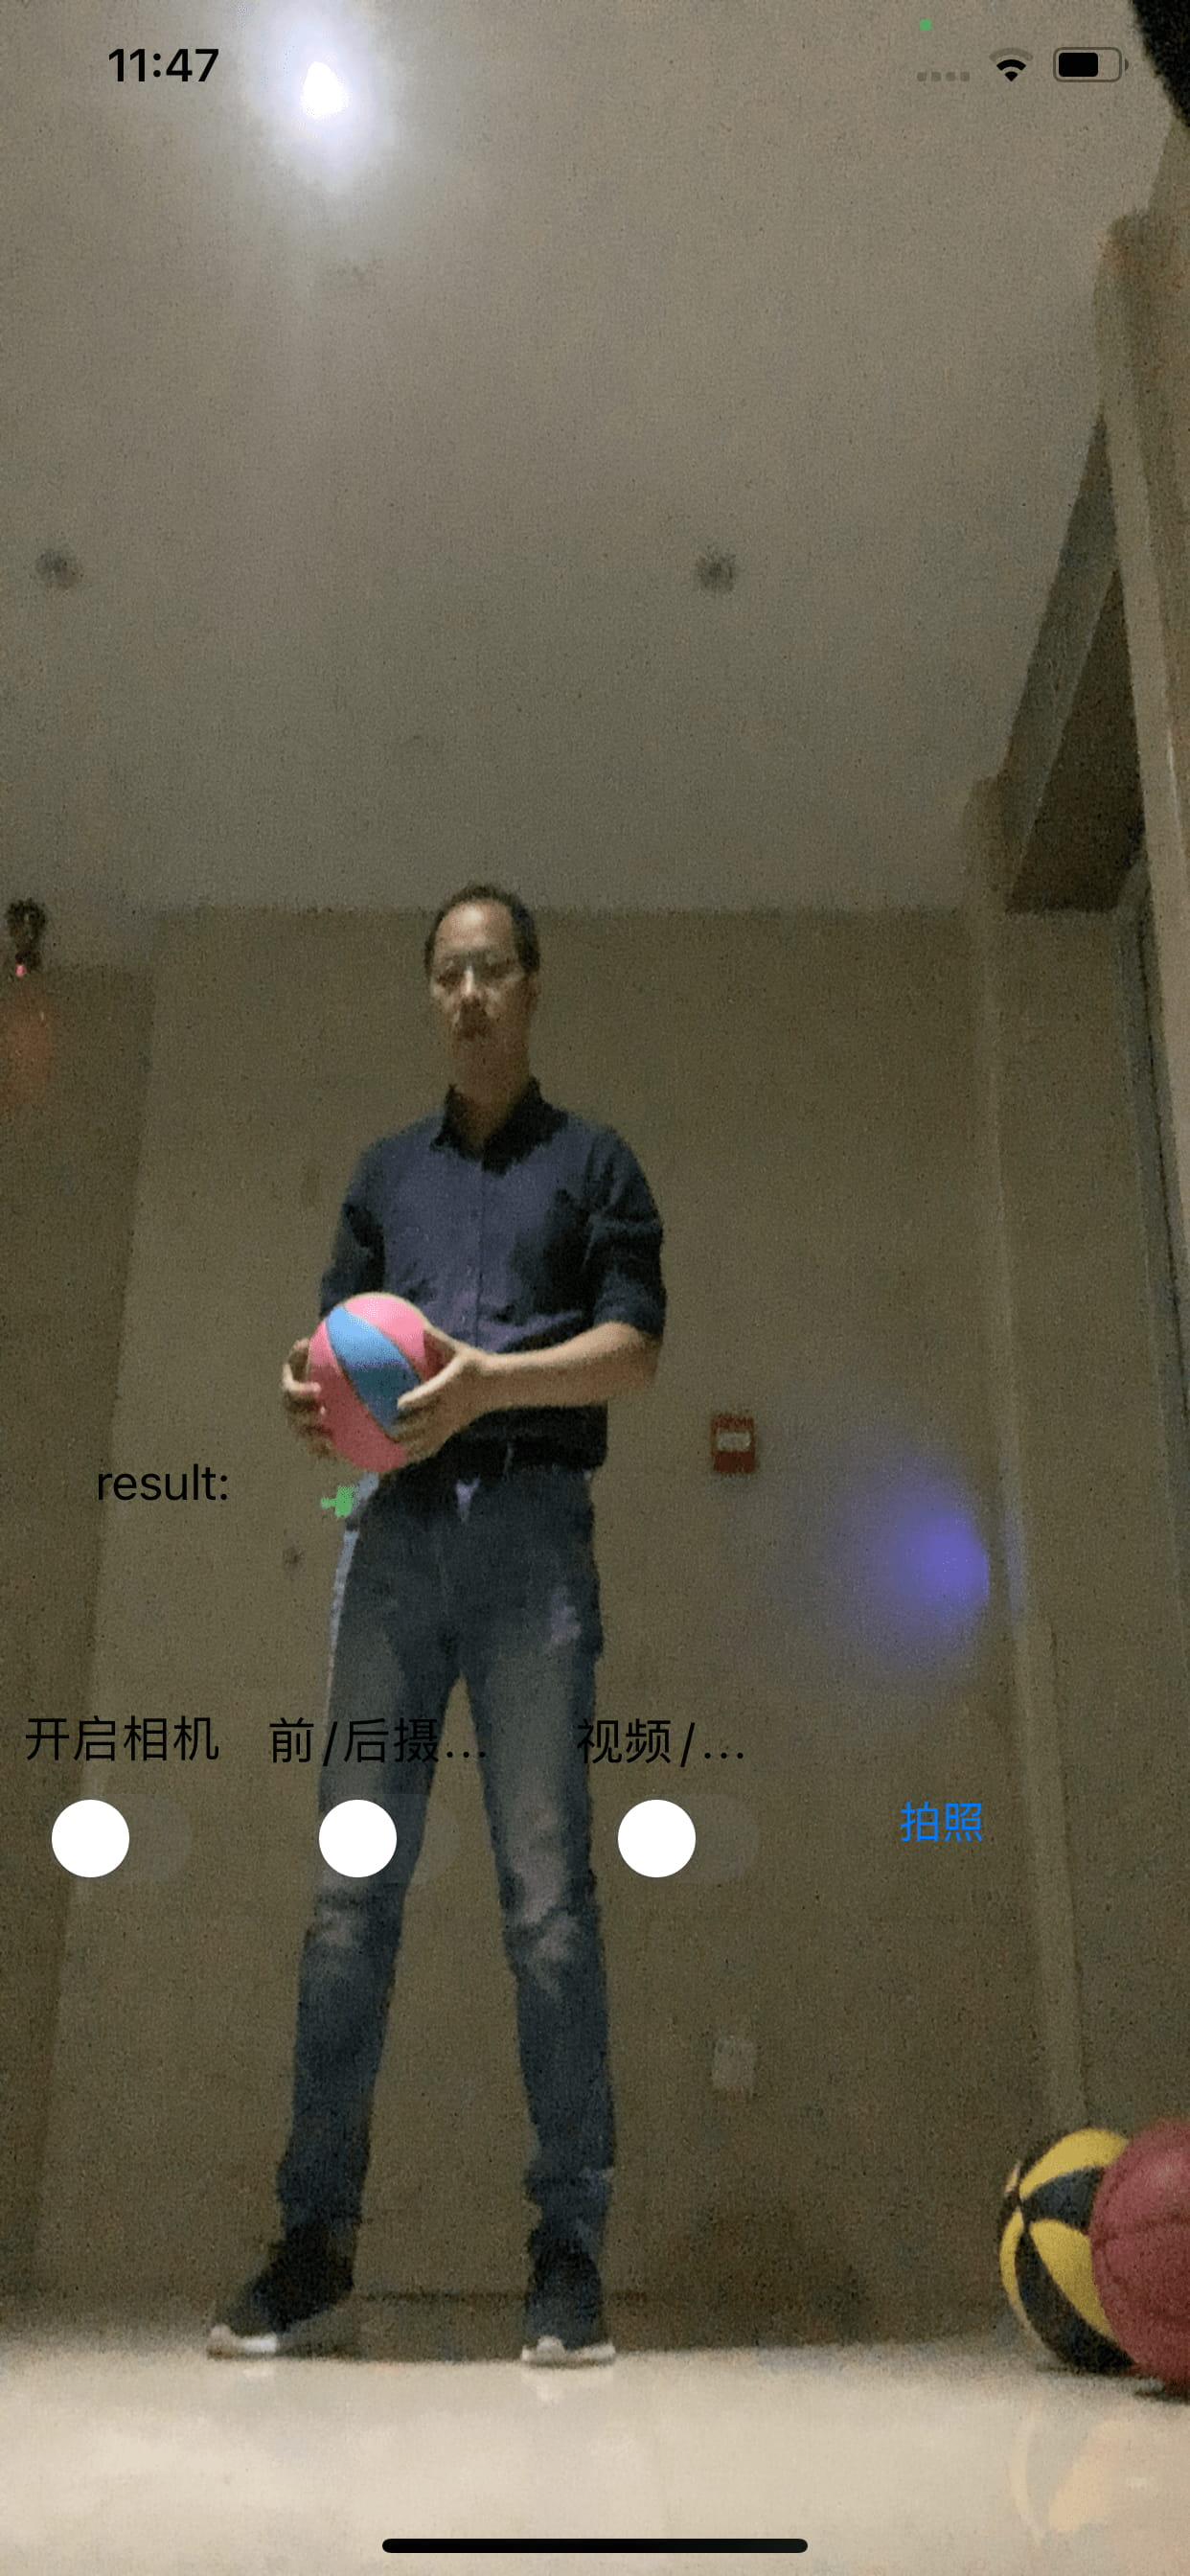ball: (299, 1281, 459, 1474), (1004, 2126, 1119, 2376), (1095, 2127, 1190, 2390)
